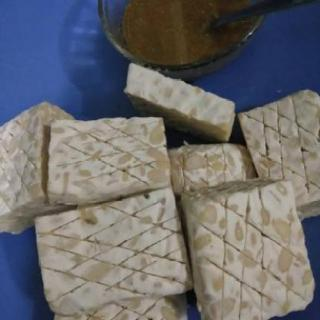Tempe: (30, 187, 194, 320), (181, 177, 316, 320)
